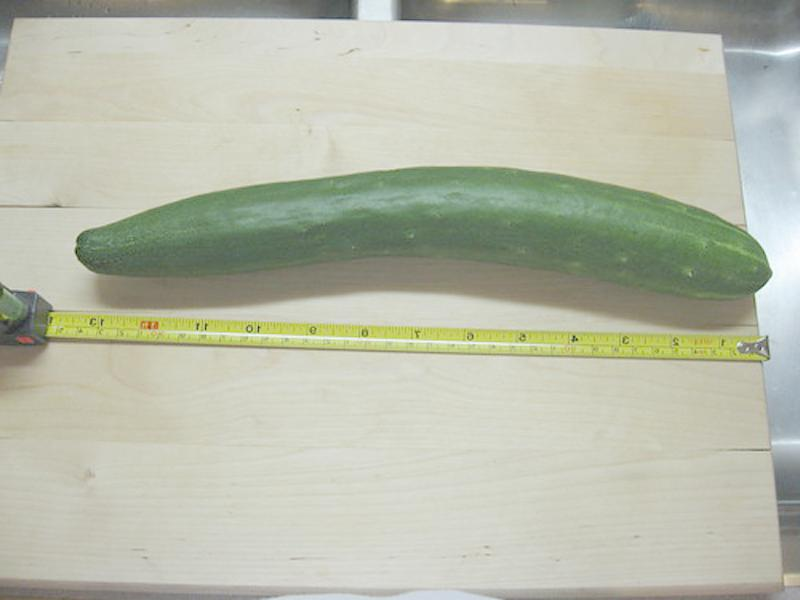Cucumber: (74, 166, 772, 301)
